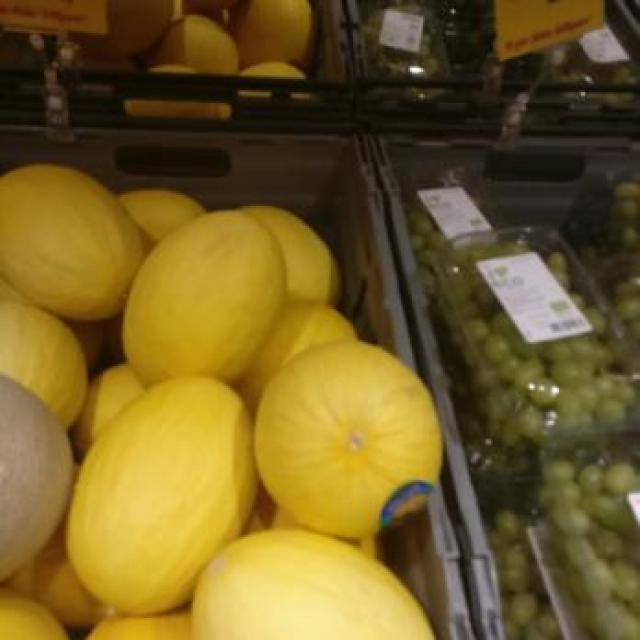Galia: (51, 380, 263, 622), (258, 346, 445, 535), (122, 208, 284, 388), (190, 535, 443, 638), (0, 158, 147, 318)
Grapes: (434, 219, 638, 452), (521, 427, 638, 638)
